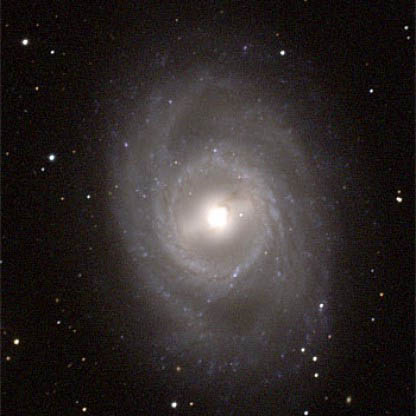Messier 95: (82, 29, 351, 391)
